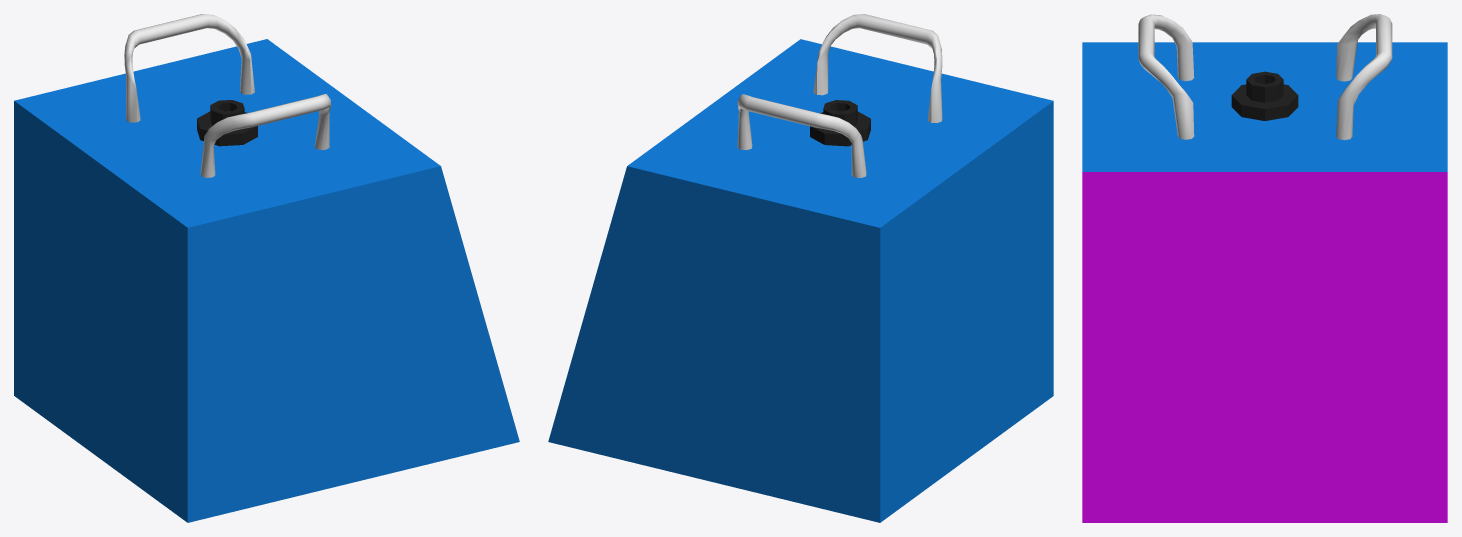
File: HirtzHeater.fbx
3 views of the same model, side by side, from view 1: azimuth 30°, elevation 25°; view 2: azimuth 150°, elevation 25°; view 3: azimuth 270°, elevation 25° (orthographic). The views are drawn at different scales.
Visible parts, largest first — view 1: HeaterCooler; view 2: HeaterCooler; view 3: HeaterCooler.
Boxes of the visible parts, x1,y1,x2,y2 form: HeaterCooler: (14, 14, 519, 522); HeaterCooler: (548, 14, 1053, 522); HeaterCooler: (1082, 14, 1447, 522).
Bounding box in the file's own units: 28.71 × 30.14 × 26.
